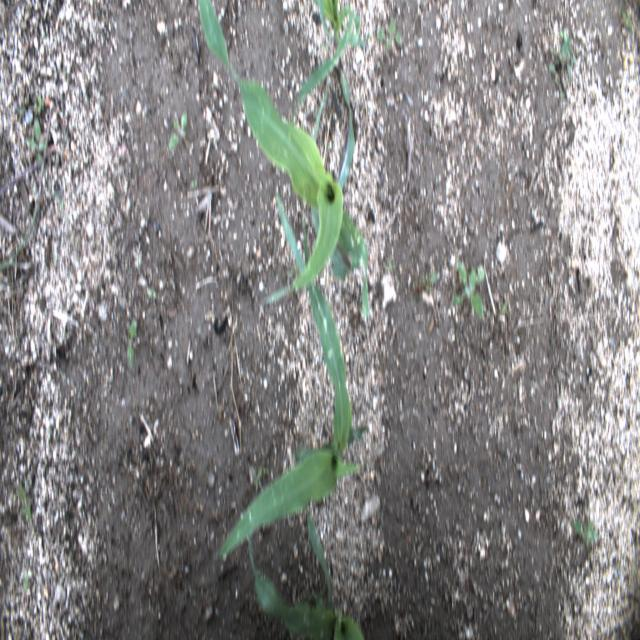crop: (214, 195, 368, 564), (197, 0, 369, 321), (248, 514, 366, 640), (310, 0, 373, 52)
weed: (0, 194, 43, 276), (452, 257, 485, 319), (547, 26, 578, 88), (49, 176, 75, 247), (26, 120, 50, 166), (376, 15, 404, 53), (570, 515, 598, 552), (167, 108, 187, 154), (17, 476, 33, 523), (126, 316, 139, 370), (32, 91, 52, 125), (414, 270, 438, 297), (620, 0, 635, 41), (252, 464, 269, 487), (384, 253, 396, 276), (19, 94, 30, 119), (24, 566, 32, 593), (500, 299, 511, 317), (146, 286, 157, 301), (559, 90, 570, 102), (190, 177, 198, 190), (42, 24, 48, 40), (455, 334, 460, 347)
